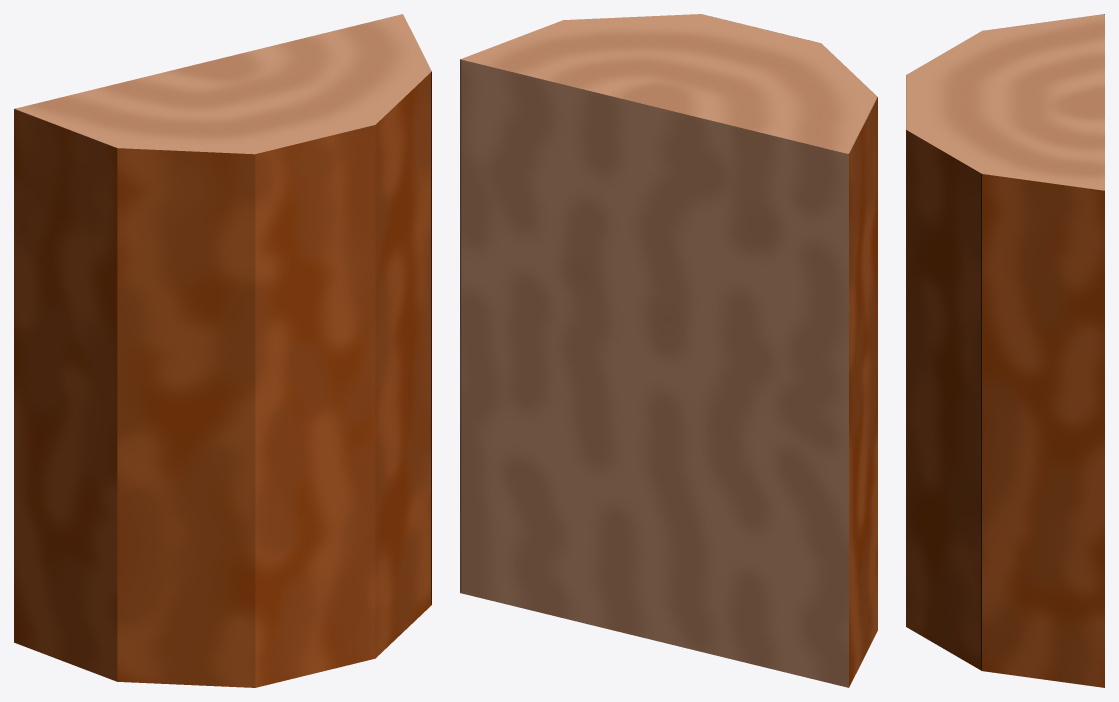
The model's file is LowPolyLog9.fbx.
3 views of the same model, side by side, from view 1: azimuth 30°, elevation 25°; view 2: azimuth 150°, elevation 25°; view 3: azimuth 270°, elevation 25° (orthographic). The views are drawn at different scales.
Visible parts, largest first — view 1: Cylinder; view 2: Cylinder; view 3: Cylinder.
Boxes of the visible parts, x1,y1,x2,y2 form: Cylinder: [14, 14, 431, 687]; Cylinder: [460, 14, 877, 687]; Cylinder: [906, 14, 1104, 687].
Bounding box in the file's own units: 200 × 262 × 95.11.
